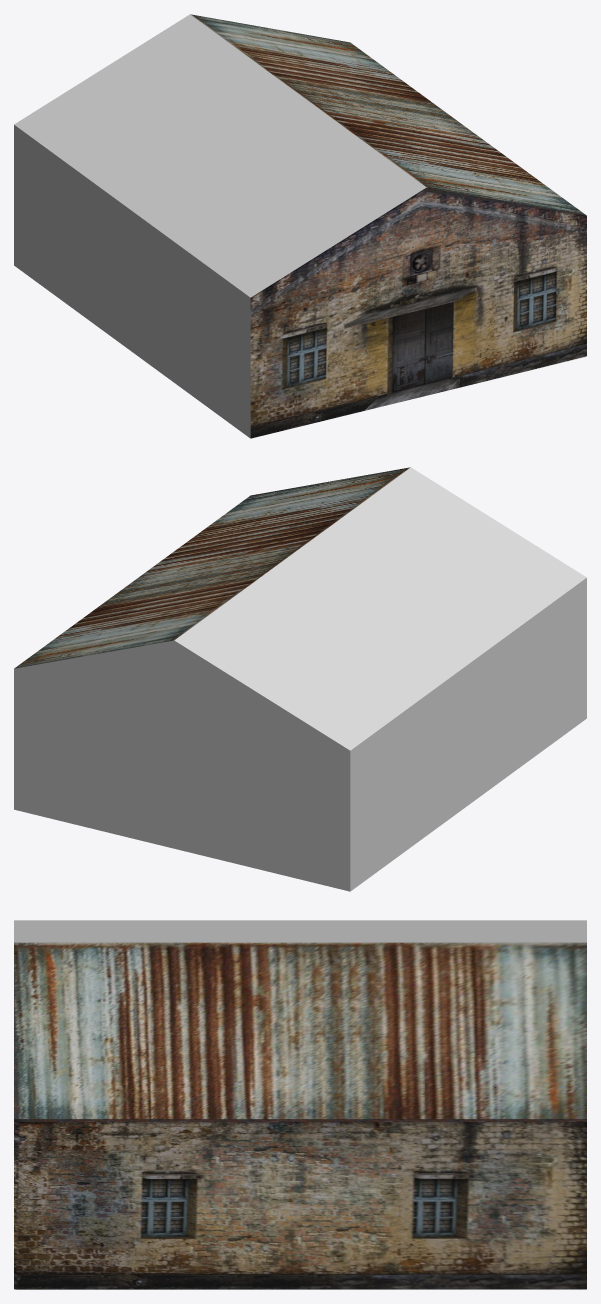
Rendered from Low Brick Warehouse Model.obj.
3 renders of one model, top to bottom at view 1: azimuth 30°, elevation 25°; view 2: azimuth 150°, elevation 25°; view 3: azimuth 270°, elevation 25°, orthographic. The views are drawn at different scales.
Parts seen in each view (by area): view 1: Mesh1 Model; view 2: Mesh1 Model; view 3: Mesh1 Model.
Part boxes in pixels (x1=…): Mesh1 Model: x1=14, y1=14, x2=586, y2=438; Mesh1 Model: x1=14, y1=467, x2=586, y2=891; Mesh1 Model: x1=14, y1=920, x2=586, y2=1289.
Bounding box in the file's own units: 462 × 273 × 563.
